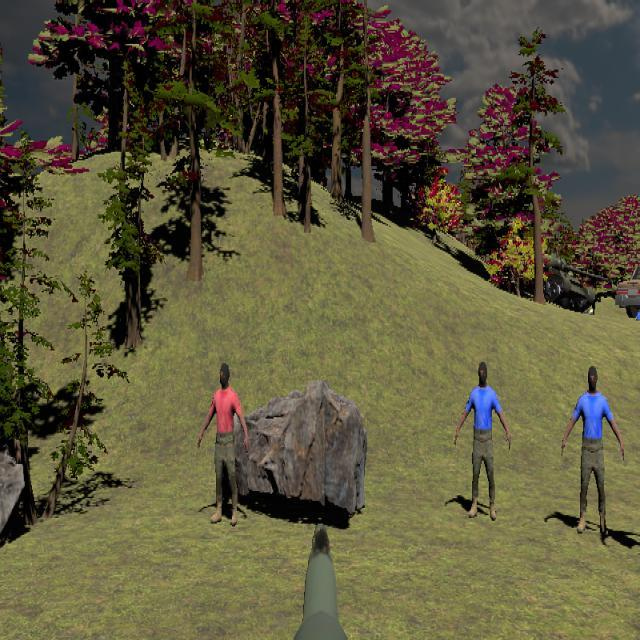Human: (561, 365, 624, 540), (454, 360, 511, 521), (197, 362, 250, 525)
Tank: (540, 255, 610, 314)
car: (615, 266, 640, 318)
